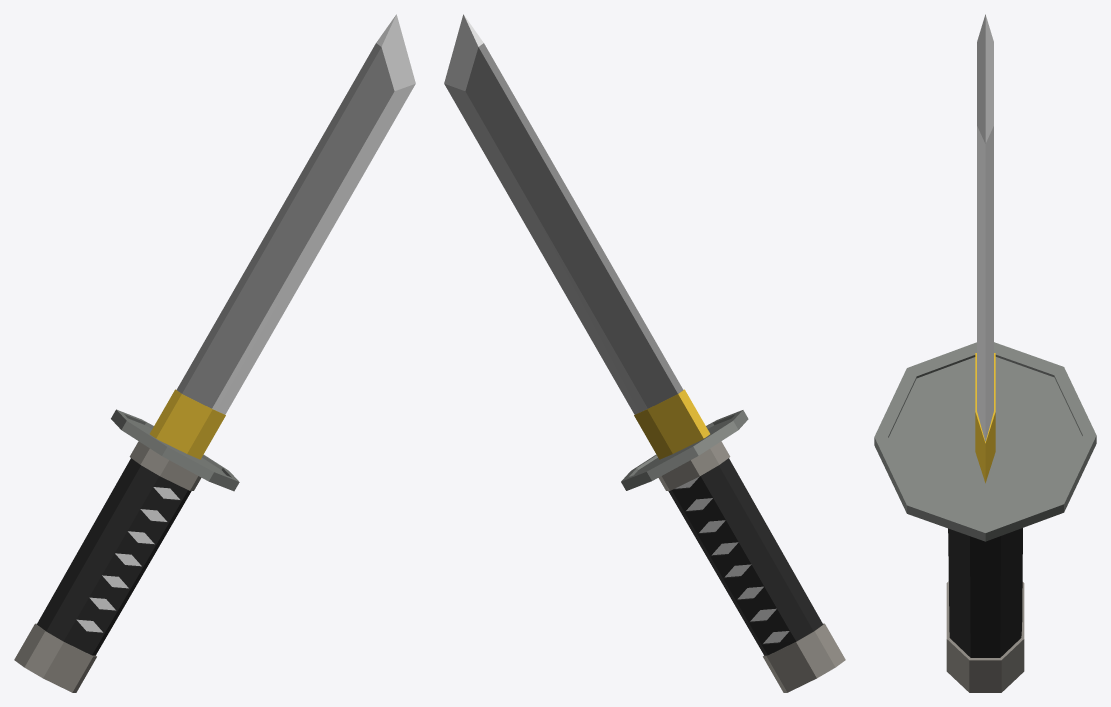
Rendered from Tanto.fbx.
The picture shows the model from 3 angles, left to right: view 1: azimuth 30°, elevation 25°; view 2: azimuth 150°, elevation 25°; view 3: azimuth 270°, elevation 25°; orthographic projection. The views are drawn at different scales.
Visible parts, largest first — view 1: Tanto; view 2: Tanto; view 3: Tanto.
Part boxes in pixels (x1,y1,x2,y2): Tanto: [14, 14, 415, 692]; Tanto: [444, 14, 845, 692]; Tanto: [874, 14, 1096, 692].
Bounding box in the file's own units: 842 × 1208 × 263.
